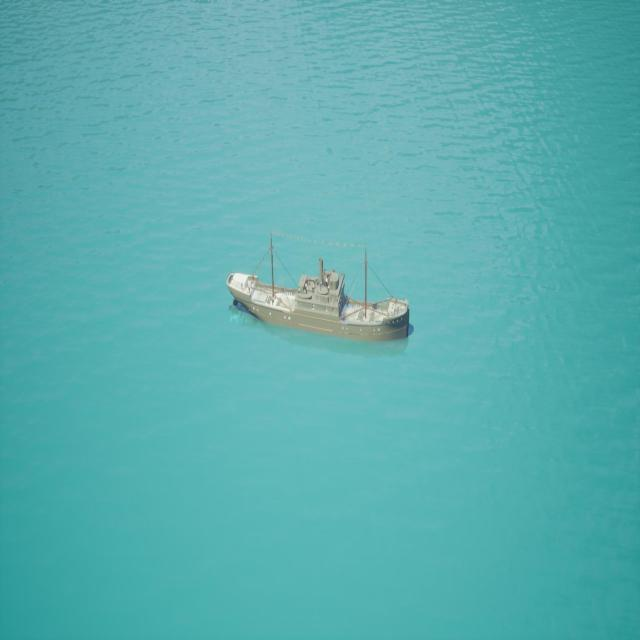fishing ship: (227, 235, 413, 350)
